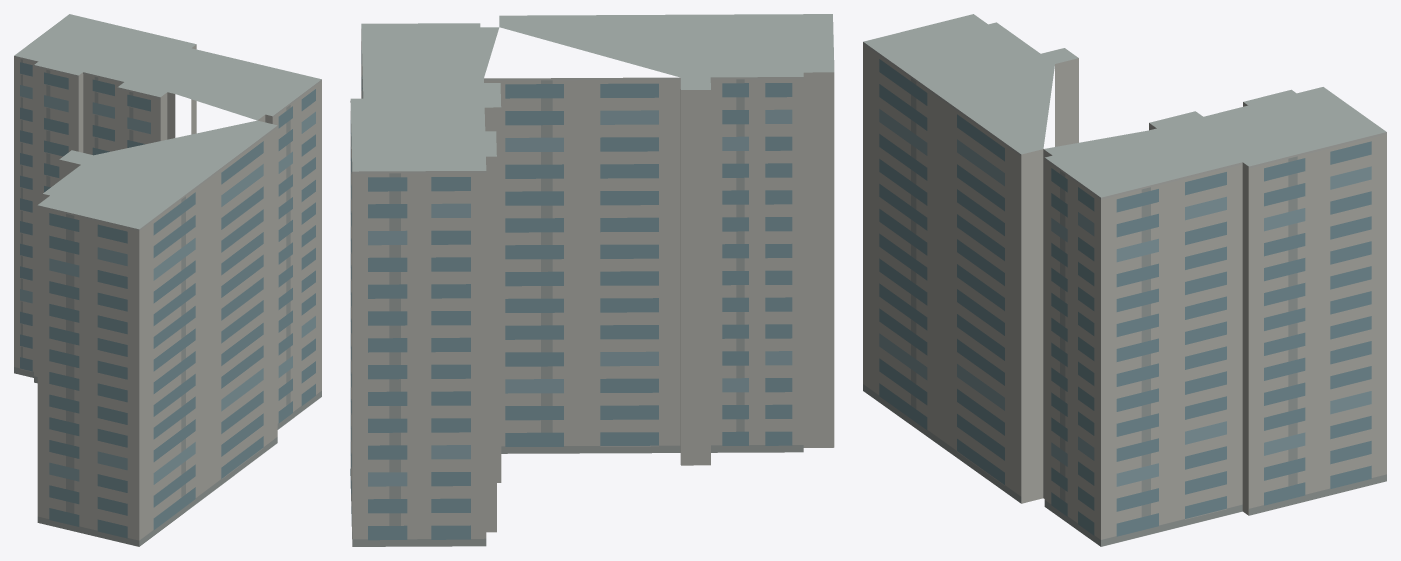
File: residential-8872950a-06e8-42e6-a073-98cd181c4c26.glb
3 renders of one model, left to right at view 1: azimuth 30°, elevation 25°; view 2: azimuth 150°, elevation 25°; view 3: azimuth 270°, elevation 25°, orthographic. The views are drawn at different scales.
Parts seen in each view (by area): view 1: residential-8872950a-06e8-42e6-a073-98cd181c4c26.tmp; view 2: residential-8872950a-06e8-42e6-a073-98cd181c4c26.tmp; view 3: residential-8872950a-06e8-42e6-a073-98cd181c4c26.tmp.
Boxes of the visible parts, x1,y1,x2,y2 form: residential-8872950a-06e8-42e6-a073-98cd181c4c26.tmp: (14,14,321,546); residential-8872950a-06e8-42e6-a073-98cd181c4c26.tmp: (350,14,834,546); residential-8872950a-06e8-42e6-a073-98cd181c4c26.tmp: (863,14,1386,546).
Bounding box in the file's own units: 48.51 × 43 × 58.45.
